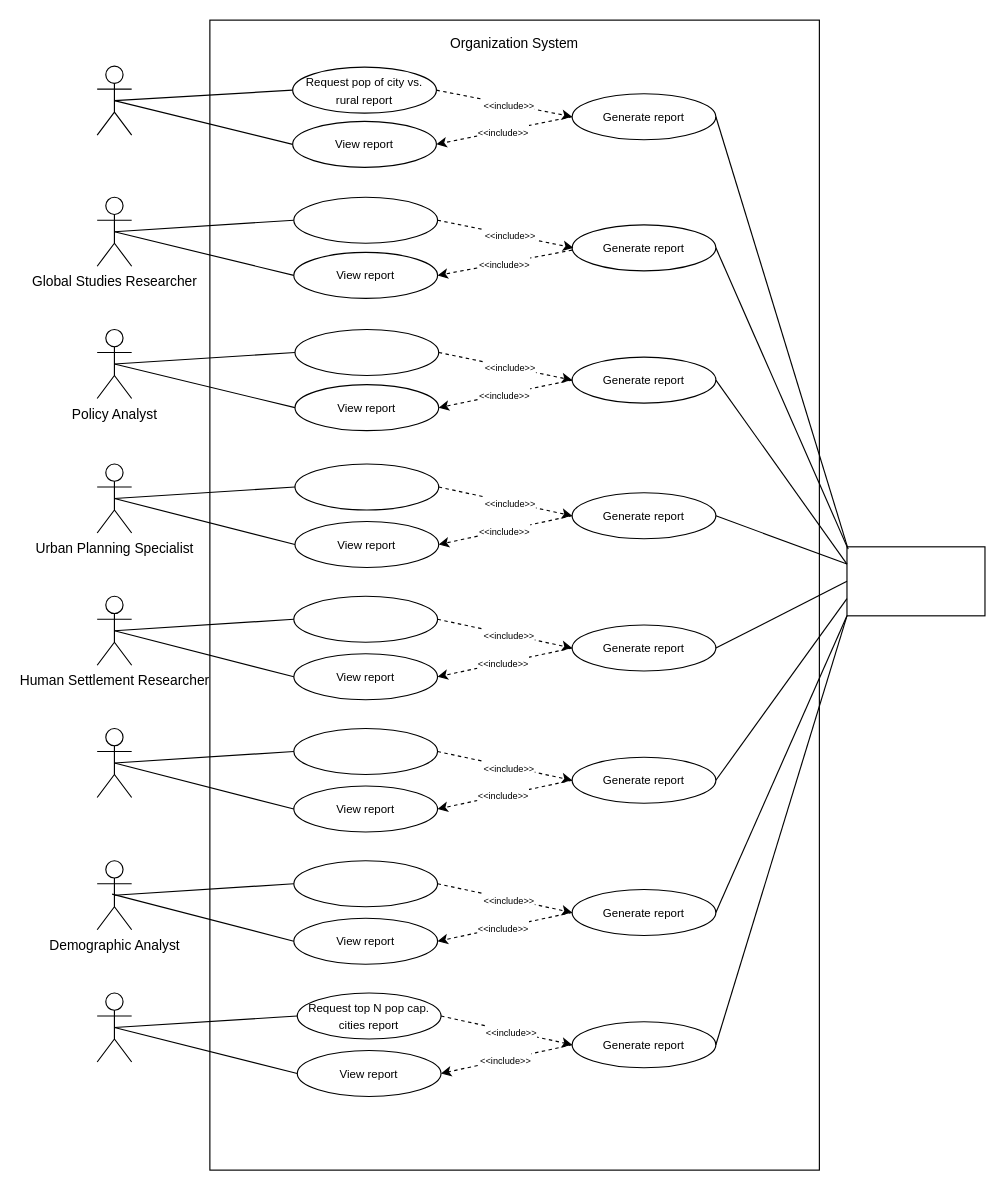
Some shapes in this 1005 by 1190 pixel diagram are drawn without their labels. Each missing label, with the centre of its shape:
"Data Analyst" belongs at (x=114, y=100).
"Database" belongs at (x=915, y=581).
"Global Affairs Analyst" belongs at (x=114, y=1027).
"Regional Services Manager" belongs at (x=114, y=762).
"Request pop of cap. cities report" belongs at (x=365, y=883).
"Request pop of cities report" belongs at (x=366, y=486).
"Request pop of countries report" belongs at (x=366, y=351).
"Request pop of language speakers report" belongs at (x=365, y=219).
"Request top N pop cities report" belongs at (x=365, y=751).
"Request top N pop countries report" belongs at (x=365, y=618).
